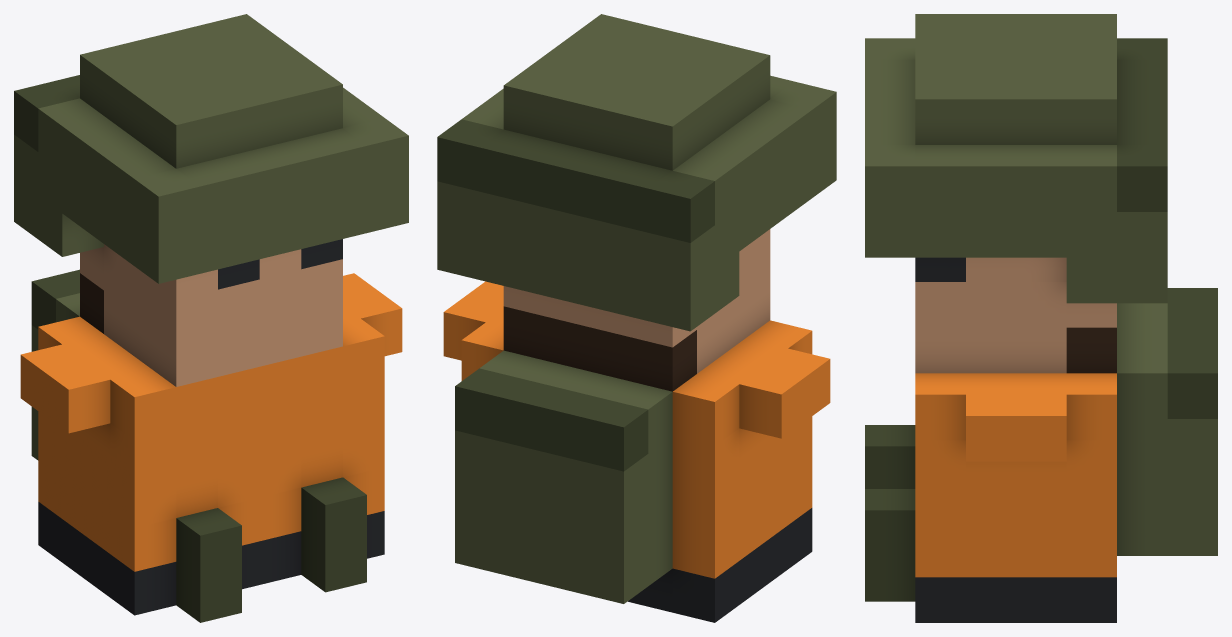
The picture shows the model from 3 angles, left to right: view 1: azimuth 30°, elevation 25°; view 2: azimuth 150°, elevation 25°; view 3: azimuth 270°, elevation 25°; orthographic projection. The views are drawn at different scales.
Parts seen in each view (by area): view 1: cm_at_t_5_body; view 2: cm_at_t_5_body; view 3: cm_at_t_5_body.
Part boxes in pixels (x1,y1,x2,y2): cm_at_t_5_body: [14, 14, 408, 622]; cm_at_t_5_body: [437, 14, 836, 622]; cm_at_t_5_body: [865, 14, 1217, 622].
Size of the model in its own units: 0.5 by 0.6875 by 0.4375.
Materials: 1 (1 with a texture image).
